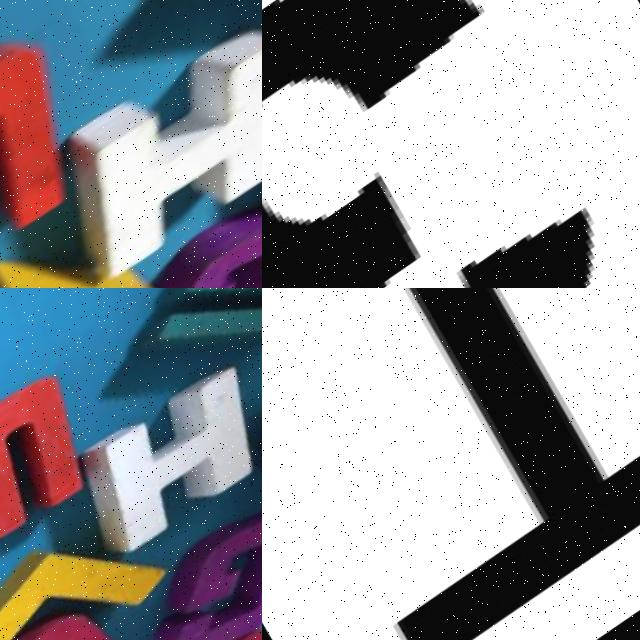3: (262, 0, 640, 288)
G: (83, 173, 262, 288), (136, 497, 262, 640)
H: (17, 0, 262, 288), (56, 357, 262, 578)
L: (0, 493, 186, 640)
M: (103, 288, 262, 426)
T: (262, 288, 640, 640)
W: (0, 0, 123, 288), (0, 362, 113, 596)
